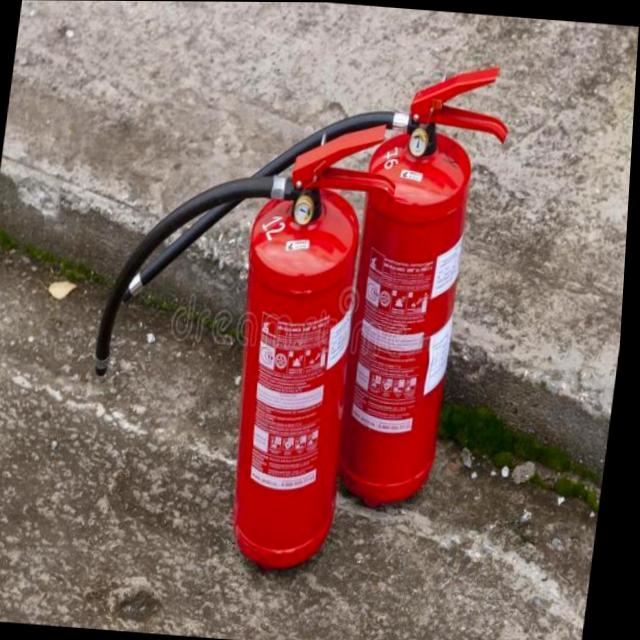FireExtinguisher: (97, 35, 521, 515), (73, 99, 406, 578)
